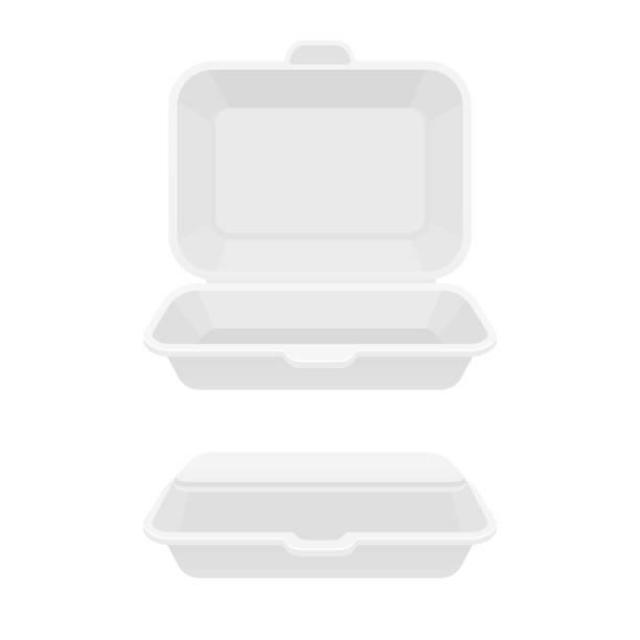styrofoam: (142, 38, 496, 390), (142, 450, 496, 579)
